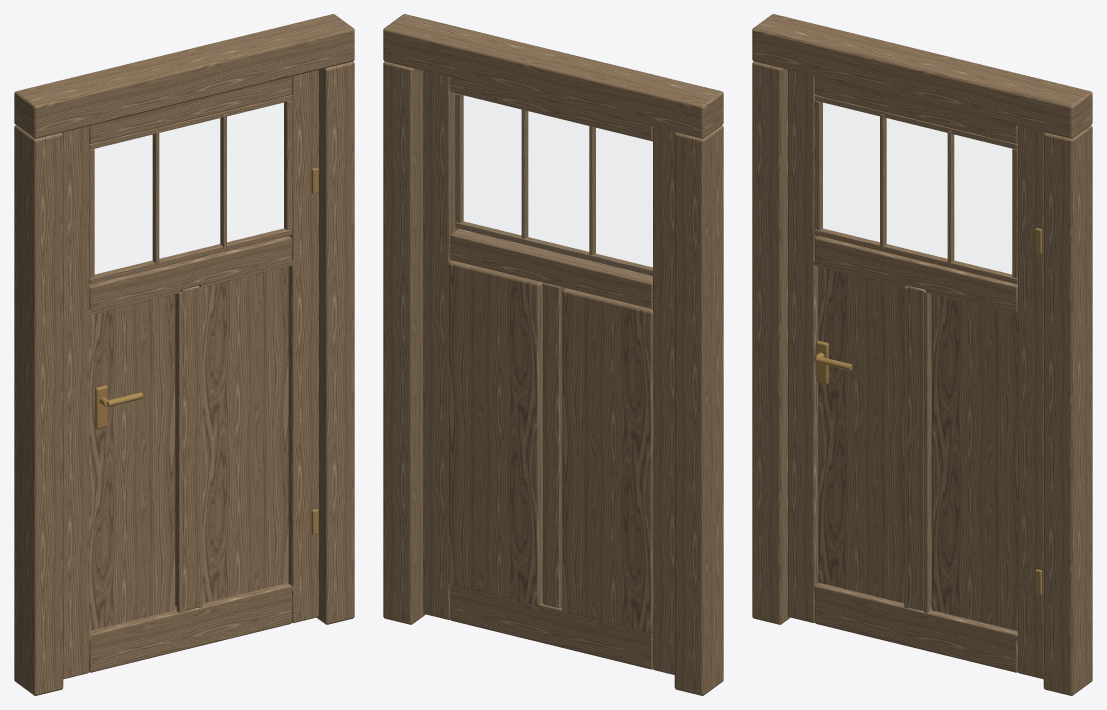
File: poker-door.glb
3 renders of one model, left to right at view 1: azimuth 30°, elevation 25°; view 2: azimuth 150°, elevation 25°; view 3: azimuth 330°, elevation 25°, orthographic.
Visible parts, largest first — view 1: poker-door - Poker satin walnut joinery runtime PBR, poker-door - Poker aged satin brass runtime PBR; view 2: poker-door - Poker satin walnut joinery runtime PBR; view 3: poker-door - Poker satin walnut joinery runtime PBR, poker-door - Poker aged satin brass runtime PBR.
Boxes of the visible parts, box(x1,y1,x2,y2) form: poker-door - Poker satin walnut joinery runtime PBR: box(14, 14, 354, 695); poker-door - Poker aged satin brass runtime PBR: box(95, 167, 318, 534); poker-door - Poker satin walnut joinery runtime PBR: box(383, 14, 723, 695); poker-door - Poker satin walnut joinery runtime PBR: box(752, 14, 1092, 695); poker-door - Poker aged satin brass runtime PBR: box(814, 228, 1042, 595).
Size of the model in its own units: 1.3 by 2.29 by 0.187.
Materials: 3 (1 with a texture image).
